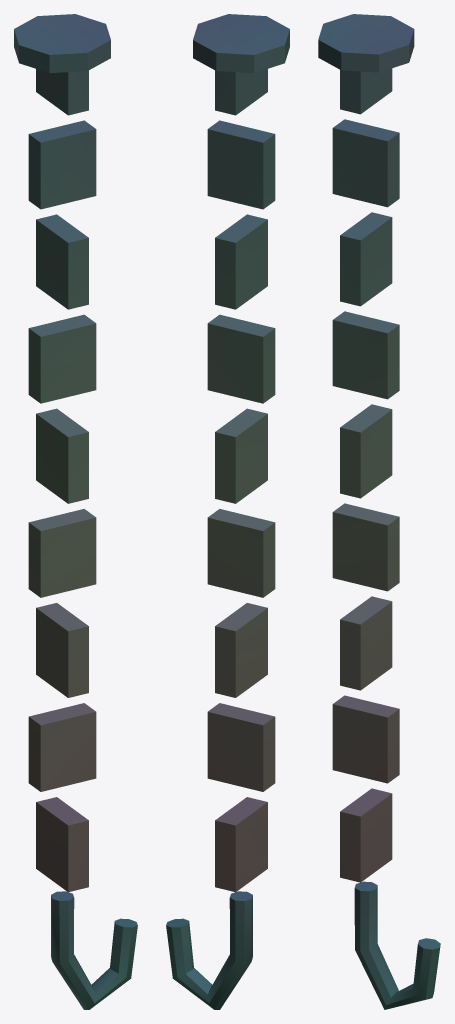
Rendered from hanging_chain.glb.
The picture shows the model from 3 angles, left to right: view 1: azimuth 30°, elevation 25°; view 2: azimuth 150°, elevation 25°; view 3: azimuth 330°, elevation 25°; orthographic projection.
Visible parts, largest first — view 1: chain, hook; view 2: chain, hook; view 3: chain, hook.
Part boxes in pixels (left/top/right/bottom): chain: left=14, top=14, right=110, bottom=892; hook: left=51, top=891, right=137, bottom=1009; chain: left=193, top=14, right=289, bottom=892; hook: left=166, top=891, right=252, bottom=1009; chain: left=318, top=14, right=414, bottom=882; hook: left=354, top=881, right=440, bottom=1009.
Bounding box in the file's own units: 0.2029 × 1.62 × 0.15.
